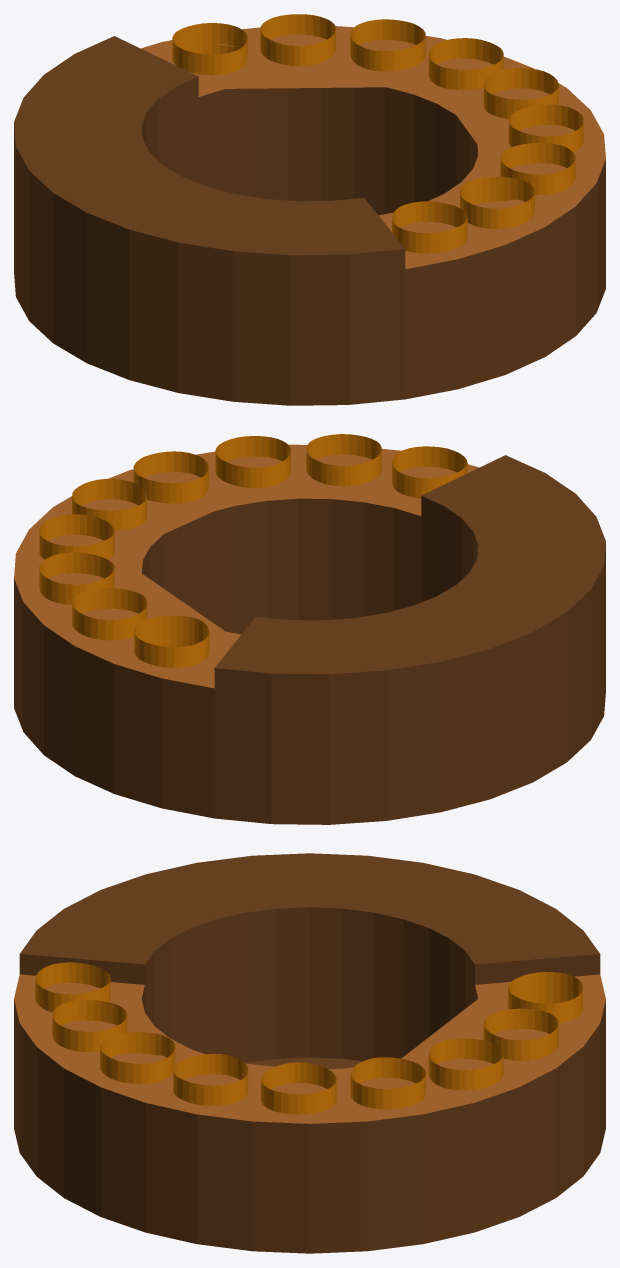
The model's file is escenarioflip.fbx.
3 renders of one model, top to bottom at view 1: azimuth 30°, elevation 25°; view 2: azimuth 150°, elevation 25°; view 3: azimuth 270°, elevation 25°, orthographic.
Parts seen in each view (by area): view 1: PlataformaBase, Emebellecedor, 9, 2, 7, 8, 1, 6, 3, 5, 4; view 2: PlataformaBase, Emebellecedor, 9, 2, 3, 8, 4, 7, 5, 1, 6; view 3: PlataformaBase, Emebellecedor, 3, 5, 6, 4, 7, 9, 8, 2, 1.
Part boxes in pixels (box(x1,y1,x2,y2)): PlataformaBase: box(14, 36, 605, 405); Emebellecedor: box(141, 26, 605, 269); 9: box(172, 23, 247, 75); 2: box(460, 176, 534, 228); 7: box(350, 19, 425, 71); 8: box(260, 14, 335, 66); 1: box(392, 201, 467, 253); 6: box(428, 38, 503, 90); 3: box(500, 142, 575, 194); 5: box(483, 68, 558, 118); 4: box(508, 104, 583, 152); PlataformaBase: box(14, 455, 605, 824); Emebellecedor: box(14, 444, 478, 688); 9: box(134, 615, 209, 667); 2: box(306, 434, 381, 486); 3: box(215, 436, 290, 487); 8: box(72, 588, 147, 640); 4: box(133, 451, 208, 503); 7: box(39, 552, 114, 604); 5: box(72, 479, 146, 530); 1: box(392, 446, 467, 498); 6: box(39, 514, 114, 559); PlataformaBase: box(14, 853, 605, 1253); Emebellecedor: box(14, 974, 605, 1123); 3: box(100, 1032, 175, 1083); 5: box(261, 1062, 336, 1114); 6: box(350, 1057, 425, 1109); 4: box(173, 1053, 248, 1105); 7: box(428, 1038, 503, 1090); 9: box(508, 972, 582, 1023); 8: box(483, 1008, 558, 1060); 2: box(52, 1000, 127, 1052); 1: box(35, 962, 110, 1012).
Size of the model in its own units: 1574 by 441 by 1574.
